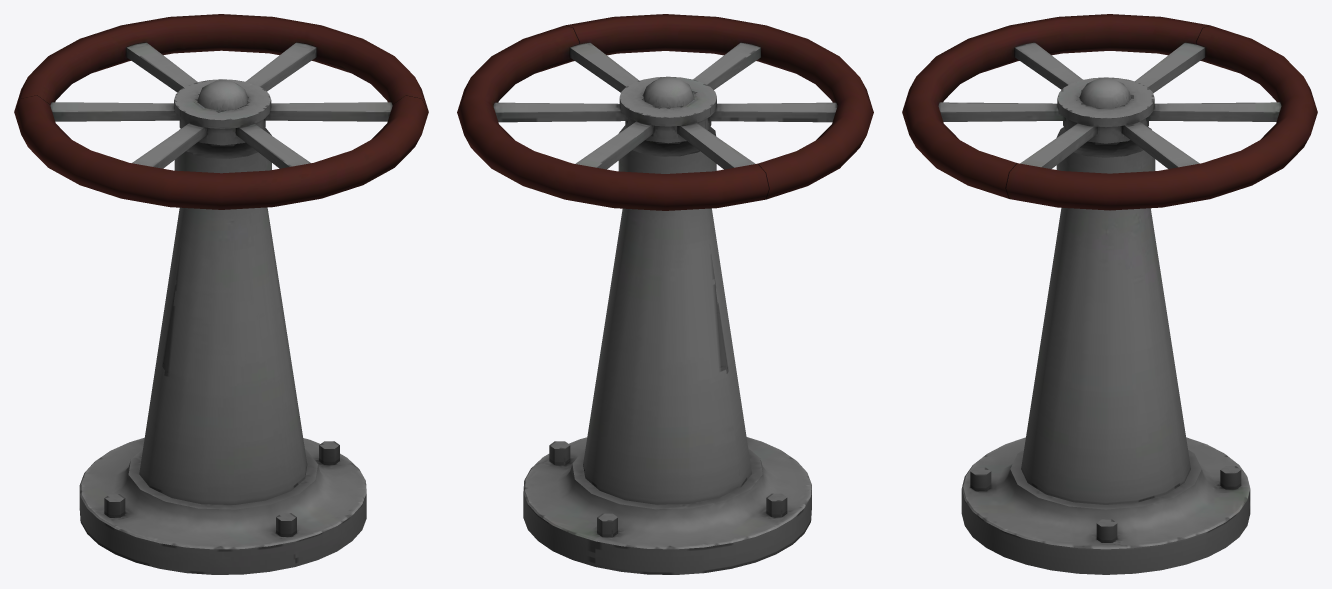
3 renders of one model, left to right at view 1: azimuth 30°, elevation 25°; view 2: azimuth 150°, elevation 25°; view 3: azimuth 270°, elevation 25°, orthographic.
Visible parts, largest first — view 1: body0_model0_lod0_mesh0; view 2: body0_model0_lod0_mesh0; view 3: body0_model0_lod0_mesh0.
Part boxes in pixels (bbox=[...]): body0_model0_lod0_mesh0: bbox=[14, 14, 428, 574]; body0_model0_lod0_mesh0: bbox=[457, 14, 873, 574]; body0_model0_lod0_mesh0: bbox=[902, 14, 1317, 574].
Size of the model in its own units: 59.97 by 68.89 by 59.97.
Materials: 1 (1 with a texture image).
